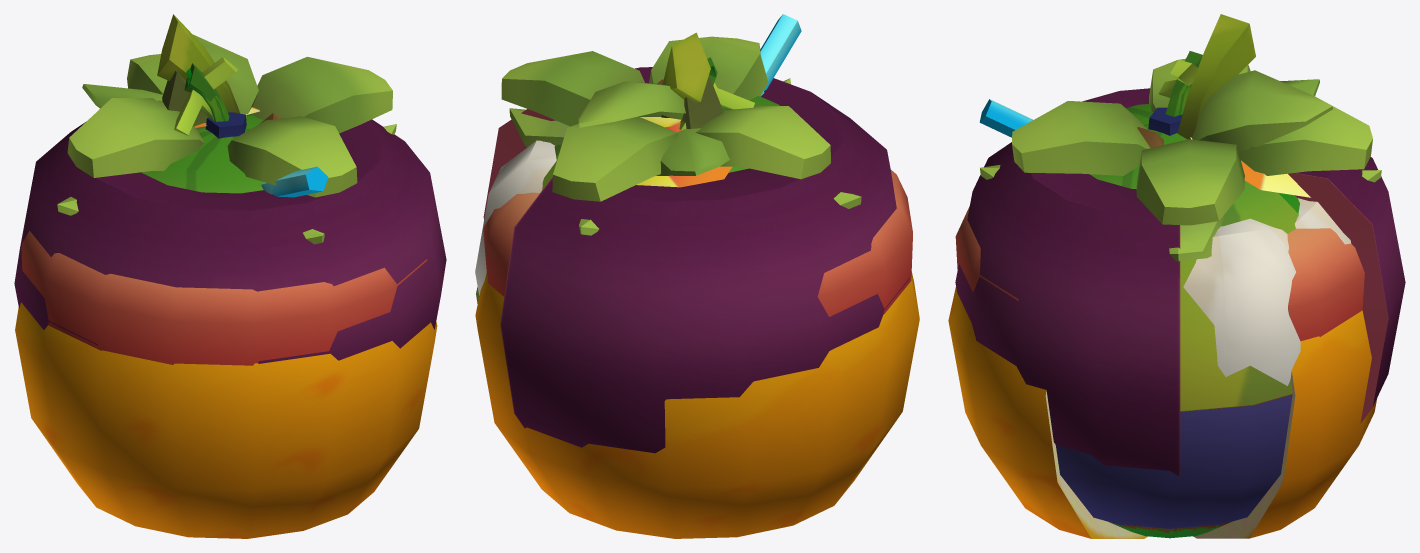
Rendered from fruit.fbx.
3 renders of one model, left to right at view 1: azimuth 30°, elevation 25°; view 2: azimuth 150°, elevation 25°; view 3: azimuth 270°, elevation 25°, orthographic. The views are drawn at different scales.
Visible parts, largest first — view 1: fruit_2, fruit_3, fruit_5, fruit_8, fruit_1, fruit_6, fruit_7, fruit_0; view 2: fruit_2, fruit_3, fruit_5, fruit_1, fruit_7, fruit_8, fruit_6; view 3: fruit_2, fruit_3, fruit_0, fruit_8, fruit_5, fruit_7, fruit_1, fruit_9, fruit_6.
Part boxes in pixels (x1,y1,x2,y2): fruit_2: (14,14,446,363); fruit_3: (15,34,437,538); fruit_5: (21,84,427,365); fruit_8: (141,63,264,193); fruit_1: (57,71,396,244); fruit_6: (174,57,237,135); fruit_7: (194,107,328,197); fruit_0: (205,112,246,138); fruit_2: (475,32,909,453); fruit_3: (475,81,919,538); fruit_5: (483,79,912,316); fruit_1: (509,77,861,235); fruit_7: (476,14,801,303); fruit_8: (476,57,779,303); fruit_6: (679,82,754,130); fruit_2: (955,14,1405,476); fruit_3: (948,70,1377,538); fruit_0: (1055,107,1292,528); fruit_8: (1090,51,1298,411); fruit_5: (955,79,1364,341); fruit_7: (979,99,1310,533); fruit_1: (980,165,1381,261); fruit_9: (1109,84,1299,538); fruit_6: (1158,59,1197,97).
Size of the model in its own units: 1.05 by 1.25 by 1.05.
10 materials, 10 textured.
